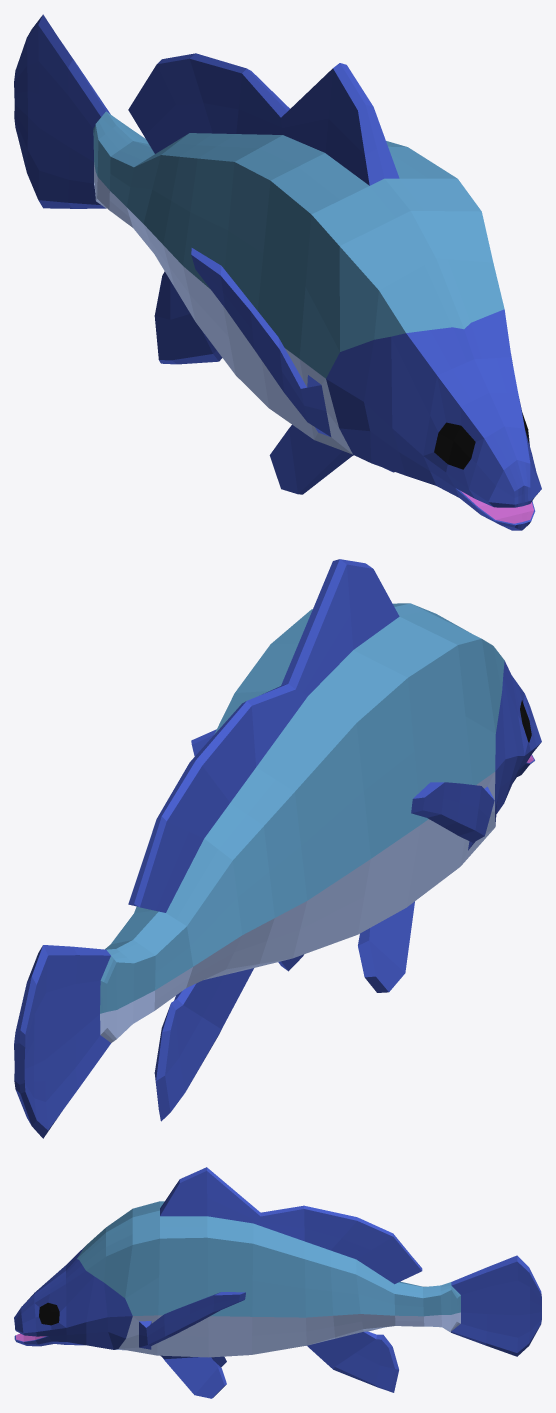
The model's file is Drum.FBX.
3 renders of one model, top to bottom at view 1: azimuth 30°, elevation 25°; view 2: azimuth 150°, elevation 25°; view 3: azimuth 270°, elevation 25°, orthographic. The views are drawn at different scales.
Parts seen in each view (by area): view 1: Drum; view 2: Drum; view 3: Drum.
Boxes of the visible parts, <box> form: Drum: <box>14,14,541,530</box>; Drum: <box>14,559,541,1138</box>; Drum: <box>14,1167,541,1398</box>.
Size of what is drawn, in the model's own units: 33.31 by 125 by 58.86.
